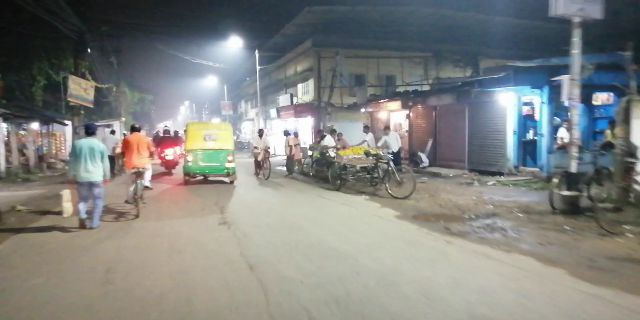Autorickshaw: (182, 119, 242, 187)
Cycle: (121, 120, 158, 221), (250, 126, 273, 185)
Rickshaw: (322, 123, 422, 204)
